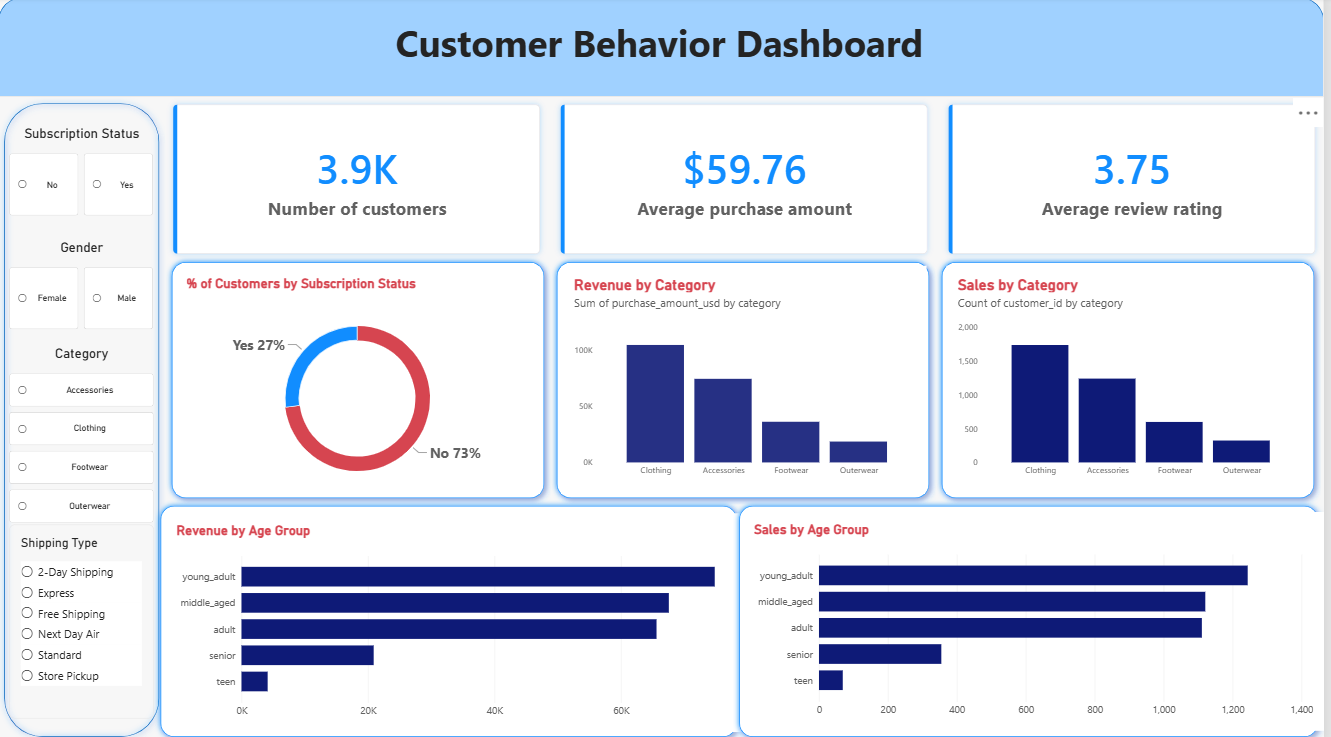

What the dashboard file says about the page in this screenshot:
{"tool":"powerbi","page":{"name":"Page 1","canvas":[1920,1080],"ordinal":0},"visuals":[{"type":"cardVisual","fields":{"Data":["customer_behavior customer.Number of customers","customer_behavior customer.Average purchase amount","customer_behavior customer.Average review rating"]},"box":[242.5,144.8,1677.6,238.9],"z":0},{"type":"shape","box":[0,0,1920.1,144.8],"z":1000},{"type":"textbox","box":[0,29,1914.6,76],"z":2000},{"type":"shape","box":[242.5,374.6,557.4,360.1],"z":3000},{"type":"donutChart","title":"% of Customers by Subscription Status","fields":{"Category":["customer_behavior customer.subscription_status"],"Y":["CountNonNull(customer_behavior customer.customer_id)"]},"box":[257,389.1,526.6,345.6],"z":4000},{"type":"shape","box":[1357.2,374.6,557.4,360.1],"z":5000},{"type":"shape","box":[799.9,374.6,557.4,360.1],"z":6000},{"type":"clusteredColumnChart","title":"Revenue by Category","fields":{"Category":["customer_behavior customer.category"],"Y":["Sum(customer_behavior customer.purchase_amount_usd)"]},"box":[818,389.1,526.6,325.7],"z":7000},{"type":"clusteredColumnChart","title":"Sales by Category","fields":{"Category":["customer_behavior customer.category"],"Y":["CountNonNull(customer_behavior customer.customer_id)"]},"box":[1373.5,389.1,524.8,325.7],"z":8000},{"type":"shape","box":[0,144.8,242.5,935.6],"z":9000},{"type":"advancedSlicerVisual","title":"Subscription Status","fields":{"Values":["customer_behavior customer.subscription_status"]},"box":[16.3,186.4,209.9,130.3],"z":10000},{"type":"advancedSlicerVisual","title":"Gender","fields":{"Values":["customer_behavior customer.gender"]},"box":[16.3,351.1,209.9,130.3],"z":11000},{"type":"advancedSlicerVisual","title":"Category","fields":{"Values":["customer_behavior customer.category"]},"box":[16.3,504.9,209.9,258.8],"z":12000},{"type":"listSlicer","title":"Shipping Type","fields":{"Values":["customer_behavior customer.shipping_type"]},"box":[16.3,763.7,209.9,280.5],"z":13000},{"type":"shape","box":[226.2,727.5,852.4,352.9],"z":13500},{"type":"clusteredBarChart","title":"Revenue by Age Group","fields":{"Category":["customer_behavior customer.age_group"],"Y":["Sum(customer_behavior customer.purchase_amount_usd)"]},"box":[242.5,747.4,870.4,316.7],"z":14000},{"type":"shape","box":[1064.1,727.5,856,352.9],"z":14001},{"type":"clusteredBarChart","title":"Sales by Age Group","fields":{"Category":["customer_behavior customer.age_group"],"Y":["CountNonNull(customer_behavior customer.customer_id)"]},"box":[1078.6,745.6,841.5,316.7],"z":14002}]}

Visuals, with their boxes in screenshot pixels (x1, y1, x2, y2), scaled from the page's 1920x1080 canvas onto the 1331x737 screenshot:
cardVisual - customer_behavior customer.Number of customers x customer_behavior customer.Average purchase amount: [left=168, top=99, right=1330, bottom=262]
shape: [left=0, top=0, right=1330, bottom=99]
textbox: [left=0, top=20, right=1327, bottom=72]
shape: [left=168, top=256, right=555, bottom=501]
"% of Customers by Subscription Status" donutChart: [left=178, top=266, right=543, bottom=501]
shape: [left=941, top=256, right=1327, bottom=501]
shape: [left=555, top=256, right=941, bottom=501]
"Revenue by Category" clusteredColumnChart: [left=567, top=266, right=932, bottom=488]
"Sales by Category" clusteredColumnChart: [left=952, top=266, right=1316, bottom=488]
shape: [left=0, top=99, right=168, bottom=736]
"Subscription Status" advancedSlicerVisual: [left=11, top=127, right=157, bottom=216]
"Gender" advancedSlicerVisual: [left=11, top=240, right=157, bottom=329]
"Category" advancedSlicerVisual: [left=11, top=345, right=157, bottom=521]
"Shipping Type" listSlicer: [left=11, top=521, right=157, bottom=713]
shape: [left=157, top=496, right=748, bottom=736]
"Revenue by Age Group" clusteredBarChart: [left=168, top=510, right=771, bottom=726]
shape: [left=738, top=496, right=1330, bottom=736]
"Sales by Age Group" clusteredBarChart: [left=748, top=509, right=1330, bottom=725]
